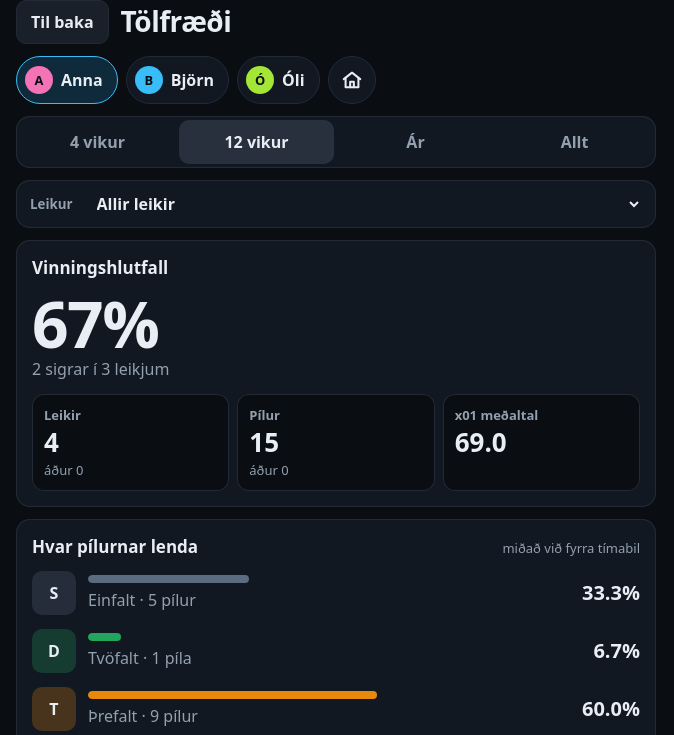
Test: StatsScreen for a guest › follows the player, period and game picked
The image size is (674, 735).
Check: the element "Vinningshlutfall" is shown, box [16, 240, 656, 507]
Click the button "Ó Óli".
click(278, 80)  # box [237, 56, 320, 104]
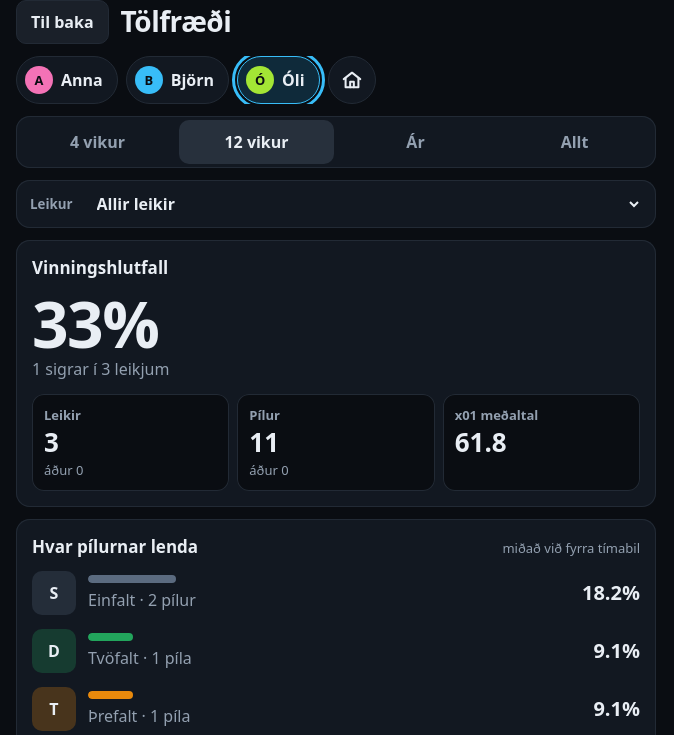
Click the button "Allt".
click(574, 142)  # box [497, 120, 652, 164]
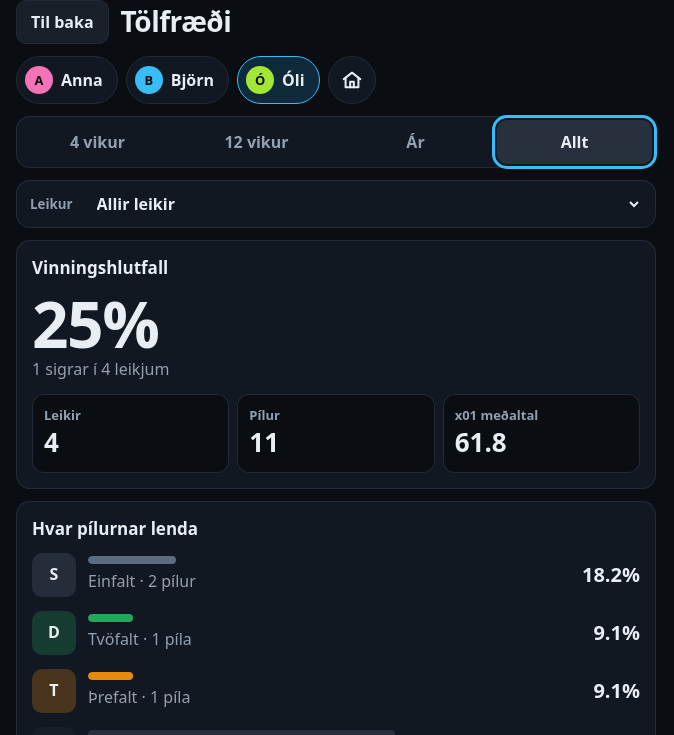
Select "x01" in the dropdown labelled "Leikur" at point(362, 204), box [82, 182, 642, 226]
(page scrolled)
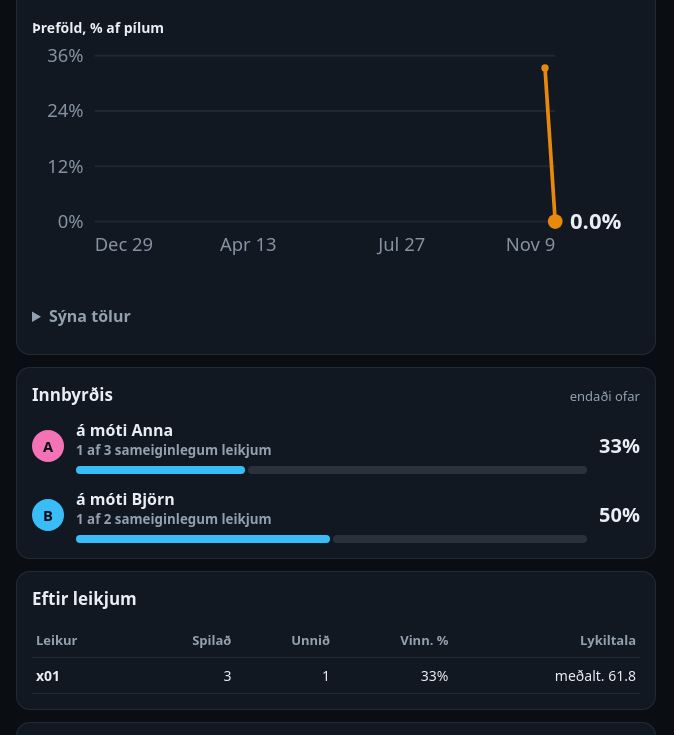
Check: the text "áður" is not shown
Check: the number of rows is 2, box [32, 623, 640, 657]; [32, 657, 640, 694]
Check: the text "1 af 3 sameiginlegum leikjum" is shown, box [76, 441, 272, 459]
